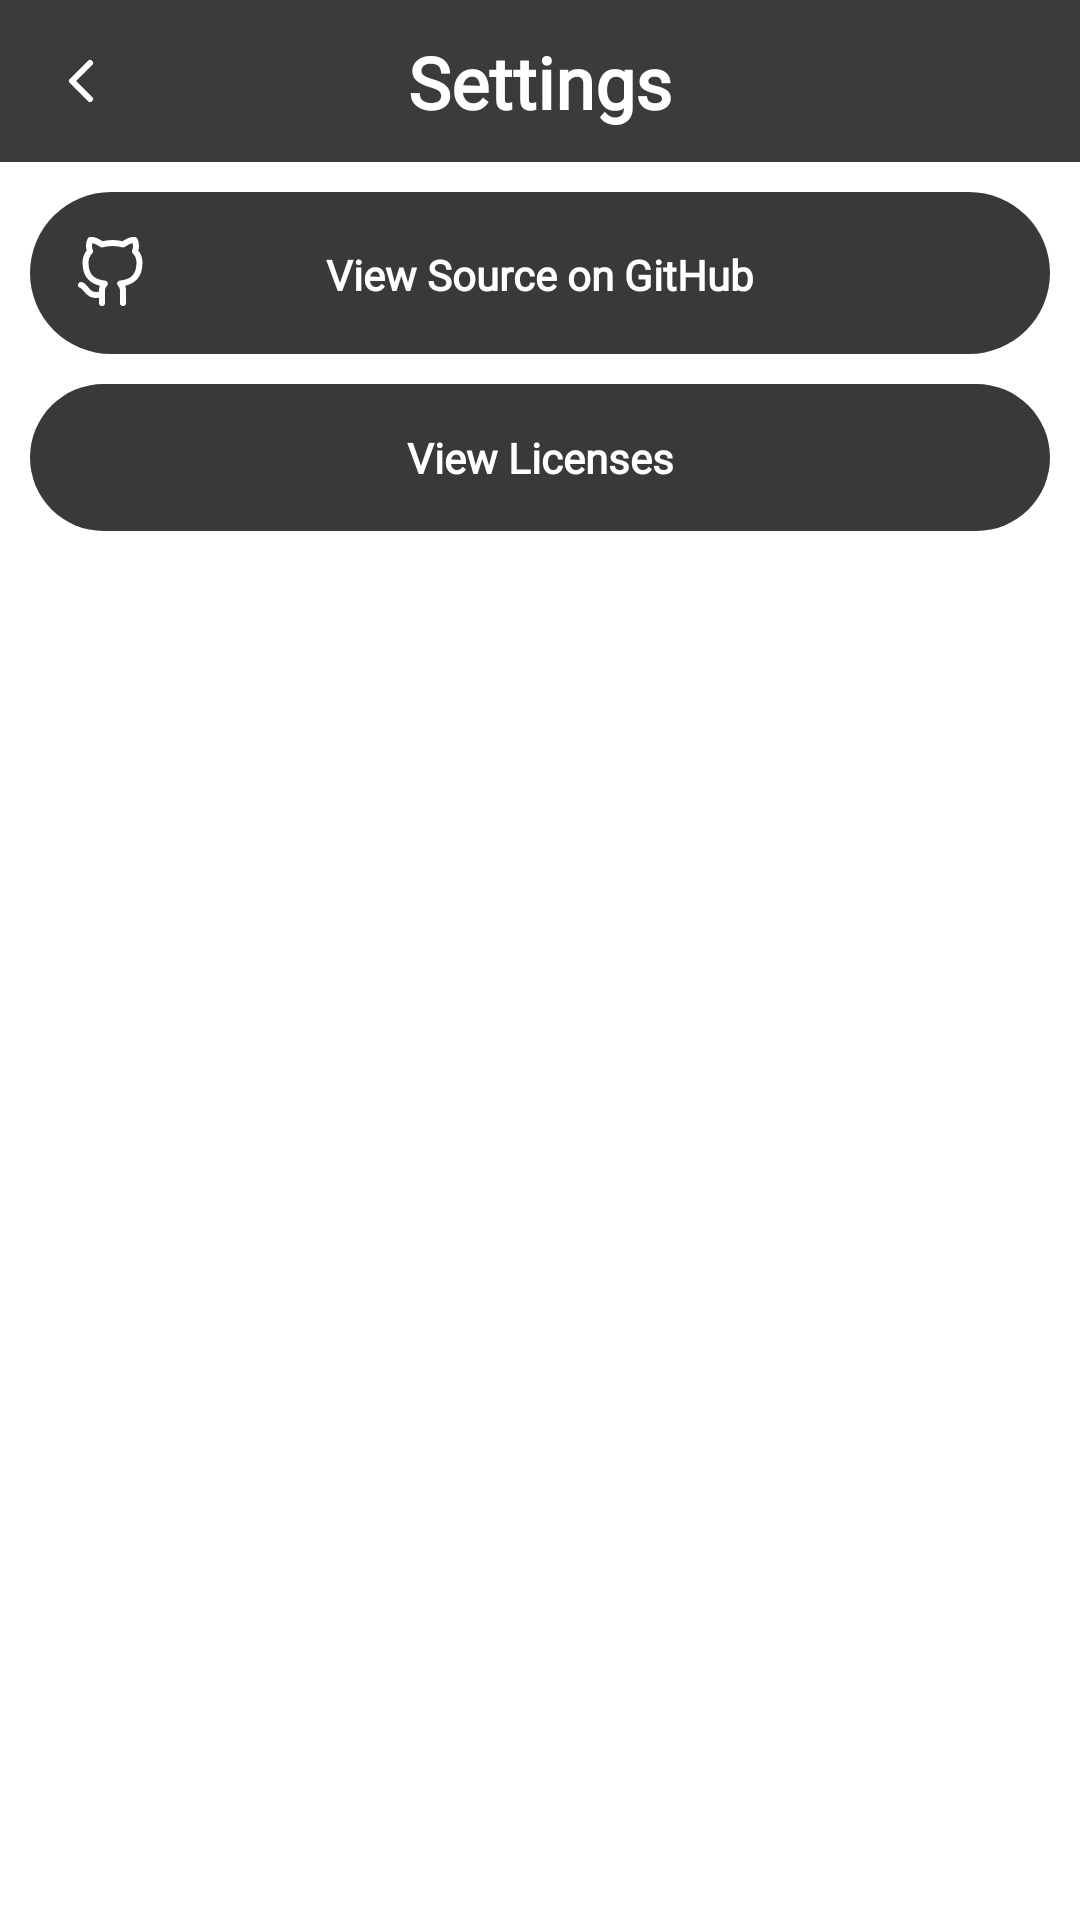

Named icons in this screenshot (1080 × 1920) and their bounding boxes, {"left": x1, "top": y1, "right": x2, "bottom": y2}:
chevron left: {"left": 69, "top": 60, "right": 93, "bottom": 102}
